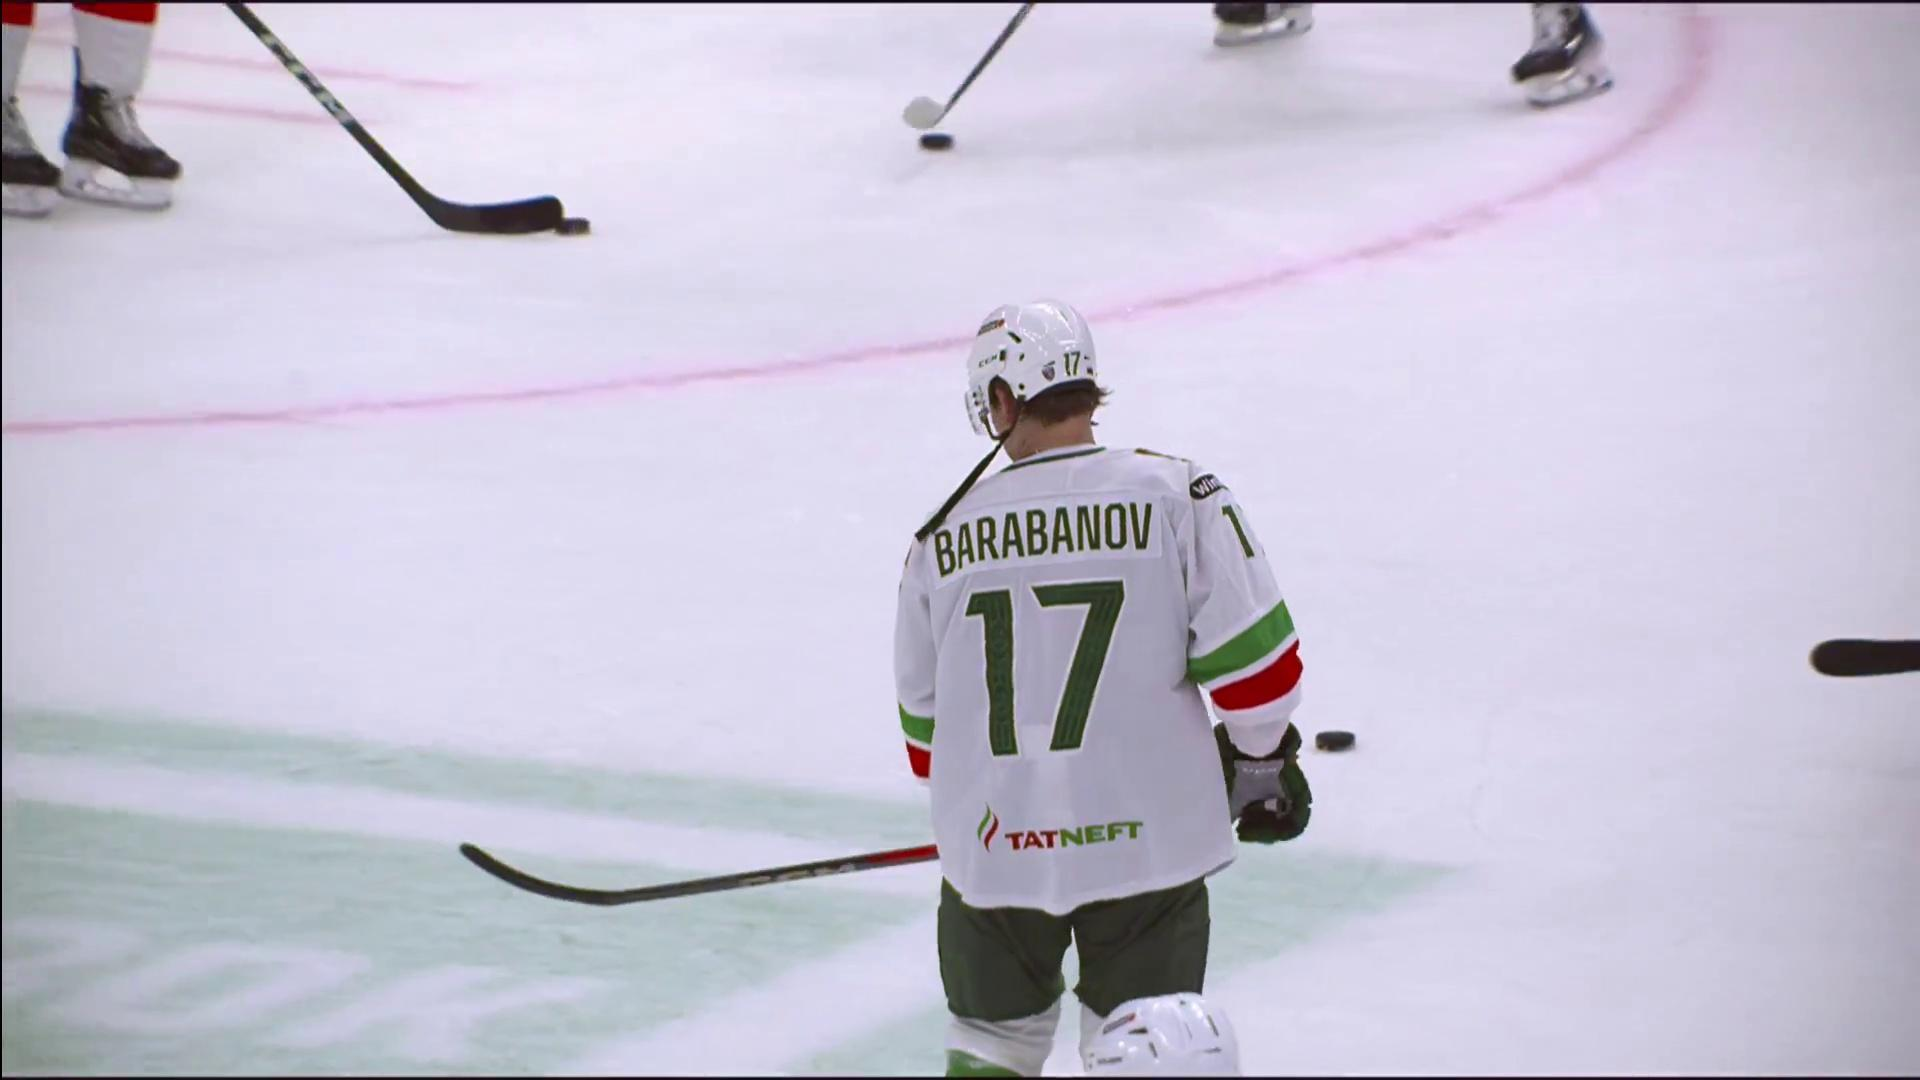ball: (1315, 729, 1356, 752)
